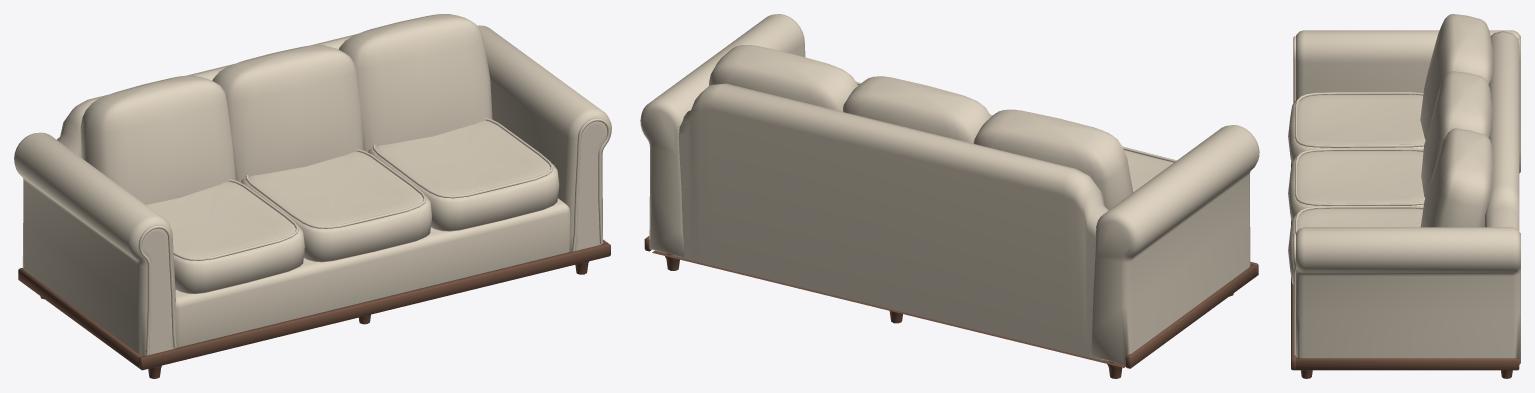
Rendered from Kit_Sofa3_Floral.fbx.
3 renders of one model, left to right at view 1: azimuth 30°, elevation 25°; view 2: azimuth 150°, elevation 25°; view 3: azimuth 270°, elevation 25°, orthographic. The views are drawn at different scales.
Visible parts, largest first — view 1: Kit_Sofa3_LOD0; view 2: Kit_Sofa3_LOD0; view 3: Kit_Sofa3_LOD0.
Part boxes in pixels (box(x1,y1,x2,y2)): Kit_Sofa3_LOD0: box(14, 14, 611, 378); Kit_Sofa3_LOD0: box(640, 14, 1259, 378); Kit_Sofa3_LOD0: box(1288, 14, 1520, 378).
Size of what is drawn, in the model's own units: 2 by 0.8221 by 0.908.
